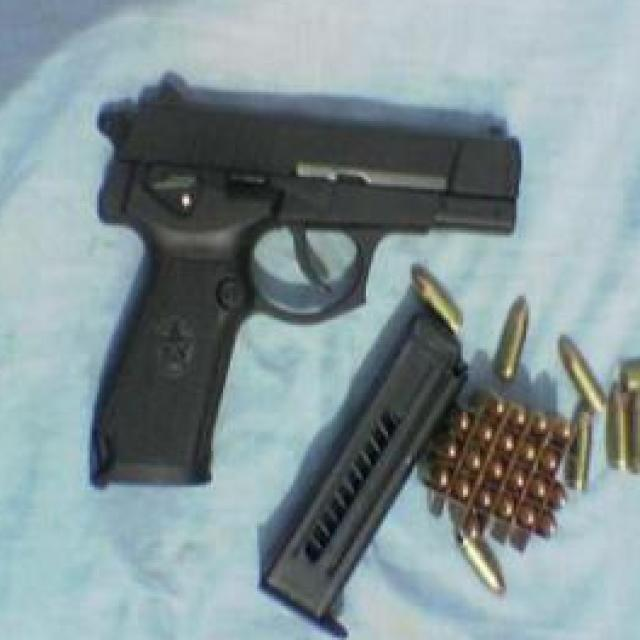pistol: (90, 80, 524, 490)
